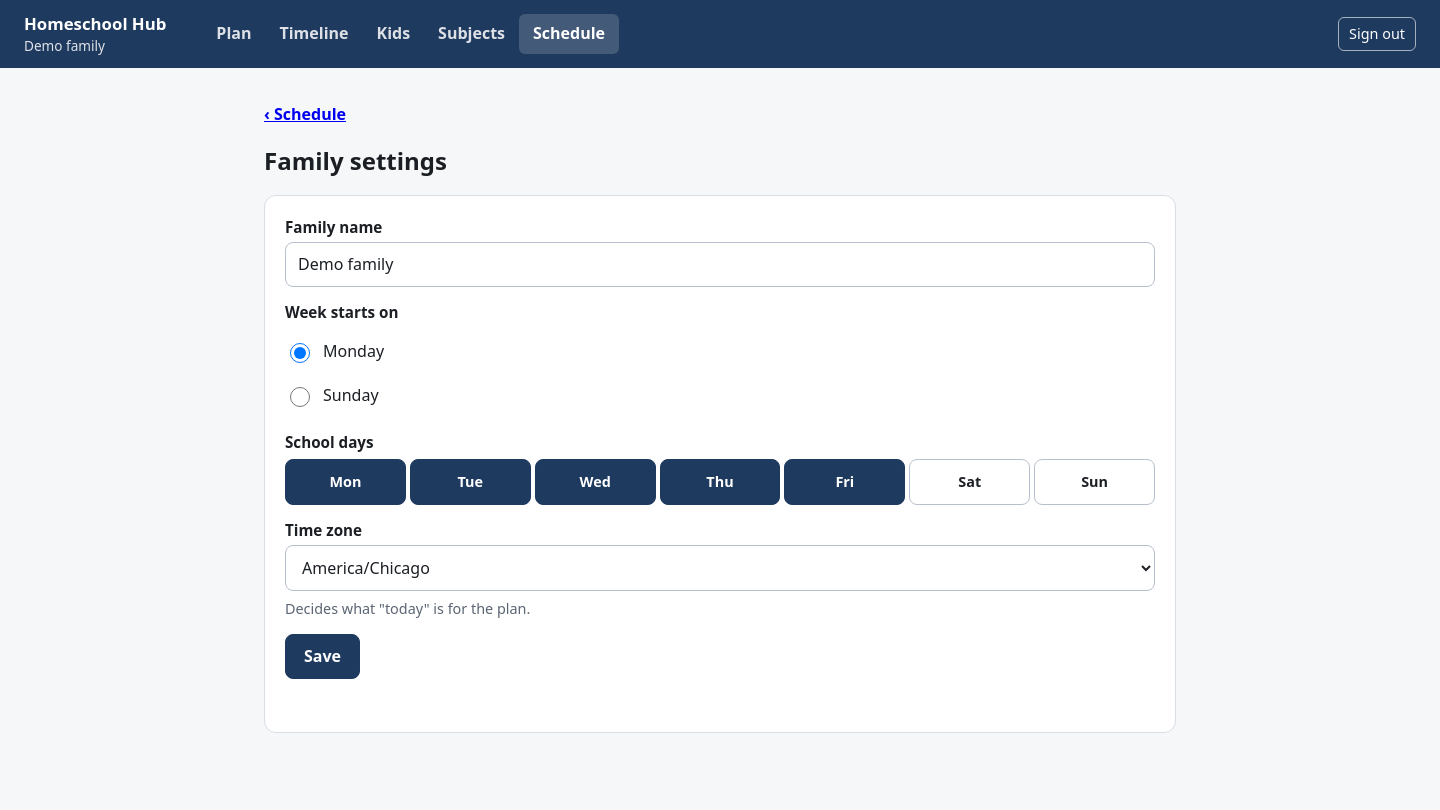
Test: Family settings form › week start lock (S2c-01) › a 409 (weeks checked in meanwhile) shows the message under Week starts on and locks the choices
Expected: the form named "Family settings" is shown, x1=264 y1=195 x2=1176 y2=733
Click the radio button labelled "Sunday".
click(300, 397)  # box x1=290 y1=387 x2=310 y2=407
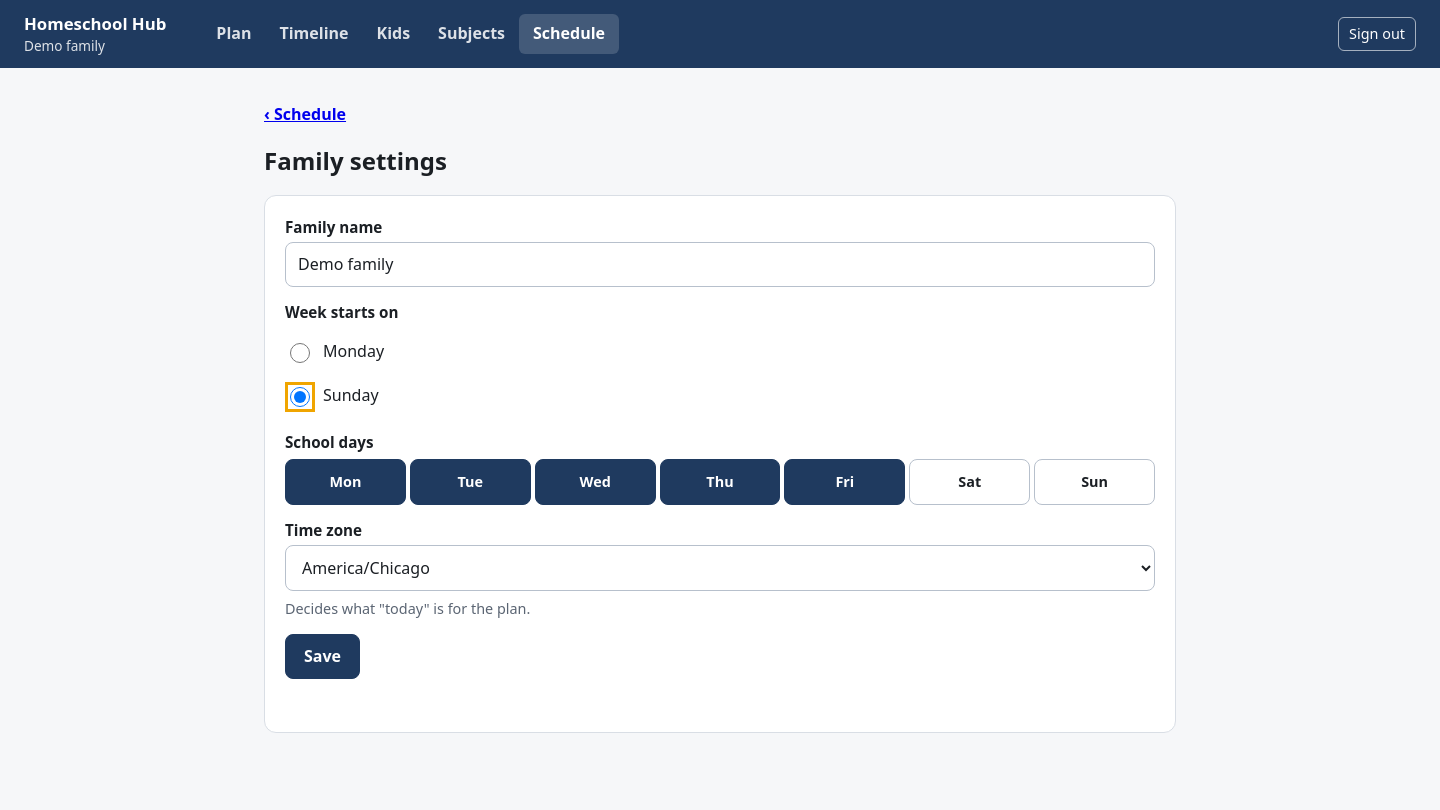
Click the button "Save".
click(322, 657)  # box x1=285 y1=634 x2=360 y2=679
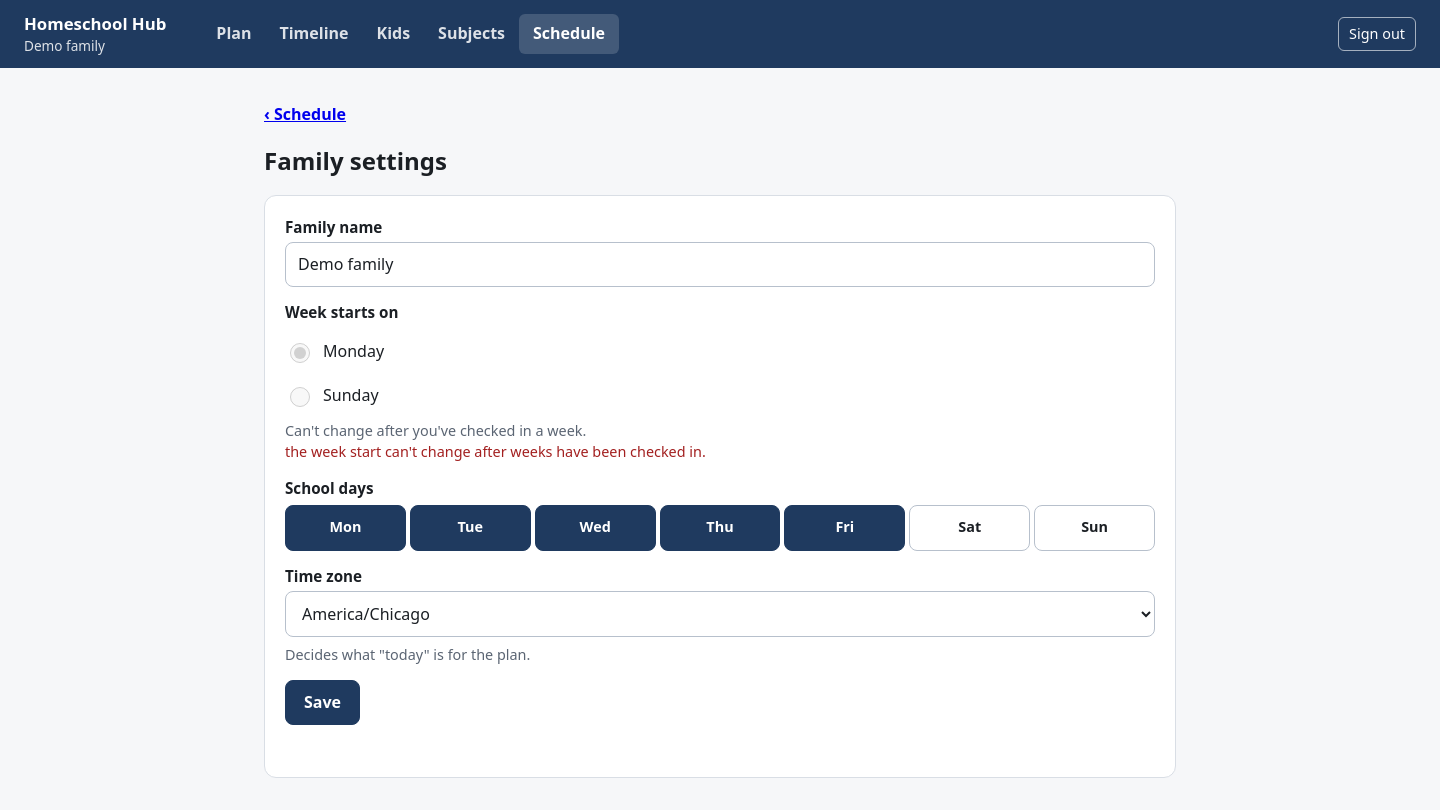
Now the message "the week start can't change after weeks have been checked in." is shown, box x1=285 y1=442 x2=706 y2=461
Now the radio button labelled "Monday" is checked, box x1=290 y1=343 x2=310 y2=363
Now the text "Can't change after you've checked in a week." is shown, box x1=285 y1=421 x2=586 y2=440
